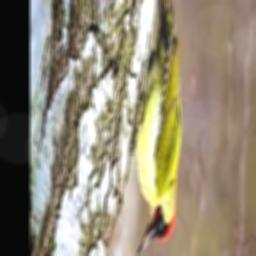Woodpecker: (128, 0, 182, 256)
